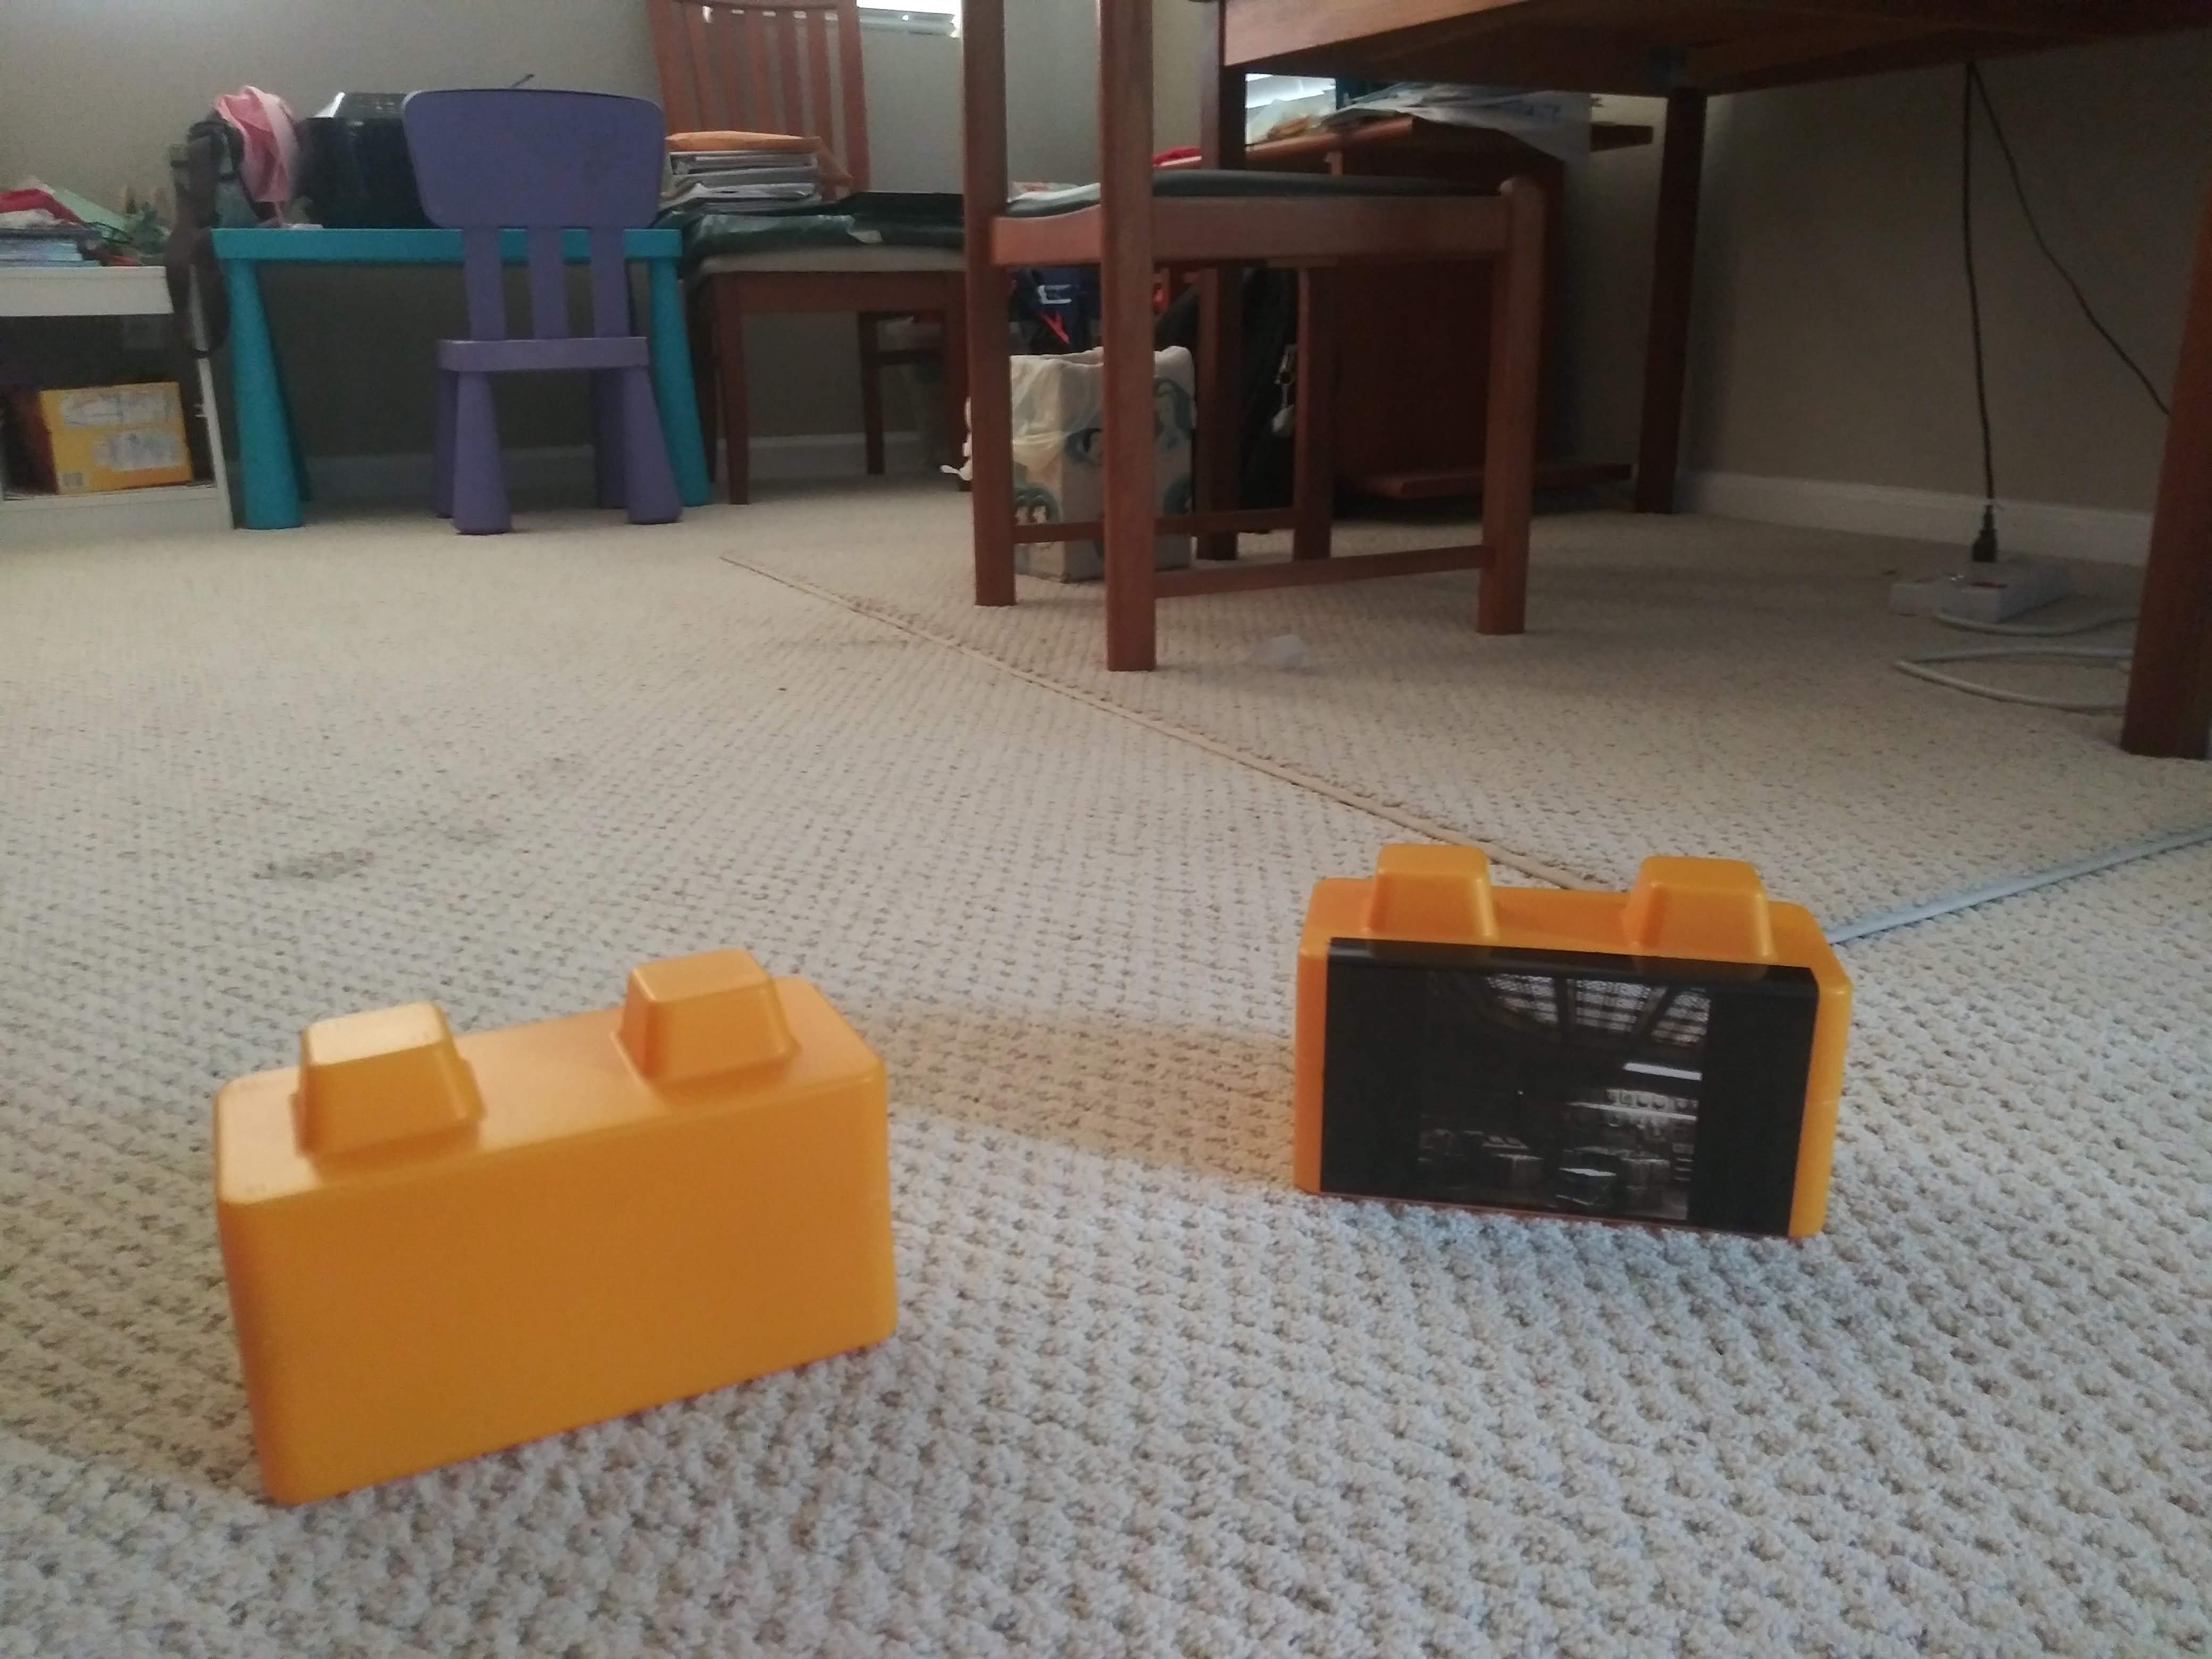skystone: (1284, 864, 1843, 1251)
stone: (221, 1025, 925, 1443)
